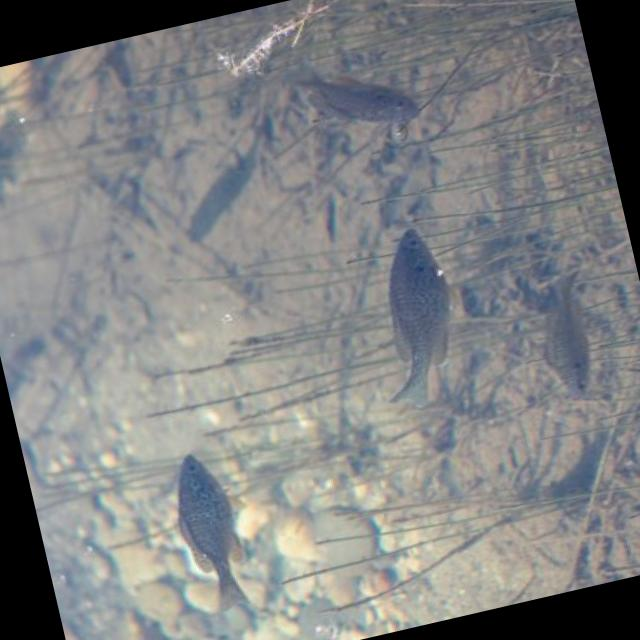Gunes Levregi: (150, 412, 287, 624)
